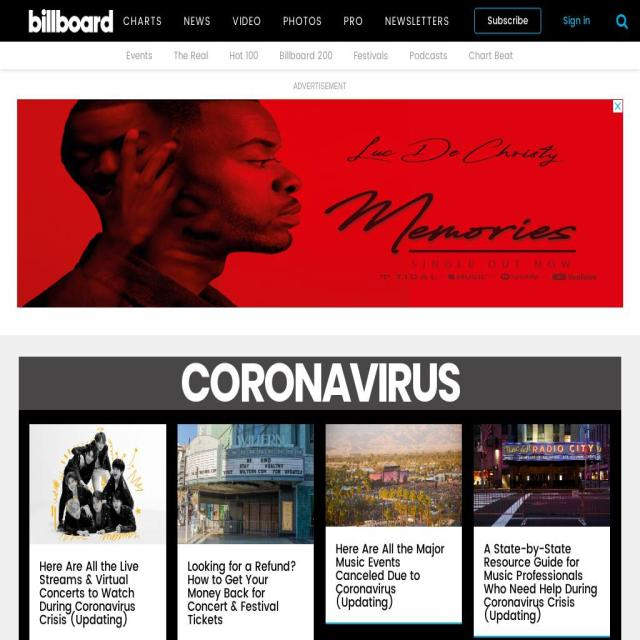button: (0, 0, 114, 42), (376, 0, 458, 42), (29, 529, 167, 552), (178, 529, 314, 552), (326, 511, 462, 533), (474, 511, 610, 533), (114, 0, 171, 42), (274, 0, 331, 42), (223, 0, 271, 42), (267, 42, 339, 69), (174, 0, 220, 42), (474, 8, 542, 34), (456, 42, 520, 69), (334, 0, 372, 42), (397, 42, 454, 69), (162, 42, 214, 69), (342, 42, 394, 69), (217, 42, 264, 69), (114, 42, 158, 69)
heading: (19, 356, 621, 410), (484, 542, 600, 622), (40, 560, 156, 628), (188, 560, 304, 628), (336, 542, 452, 609)
iframe: (17, 99, 623, 308)
image: (30, 424, 166, 545), (178, 424, 314, 545), (326, 424, 462, 527), (474, 424, 610, 527), (17, 9, 125, 33), (603, 0, 640, 42)
link: (563, 12, 590, 30)
